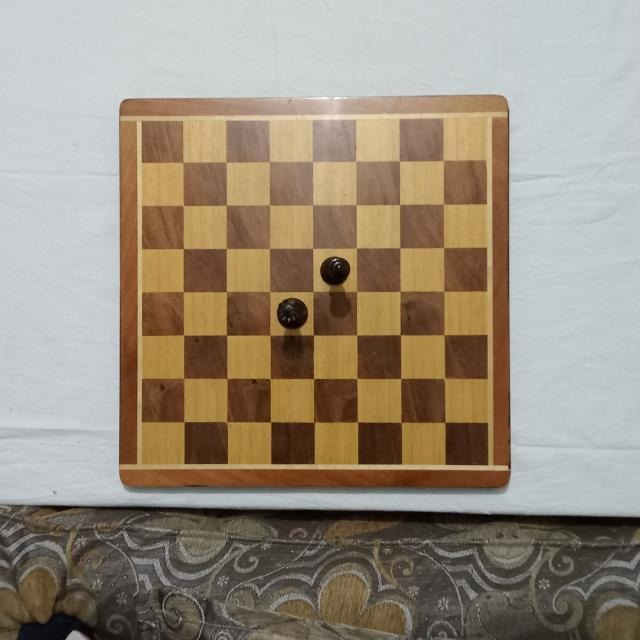black-king: (320, 254, 352, 285)
black-queen: (276, 296, 310, 329)
